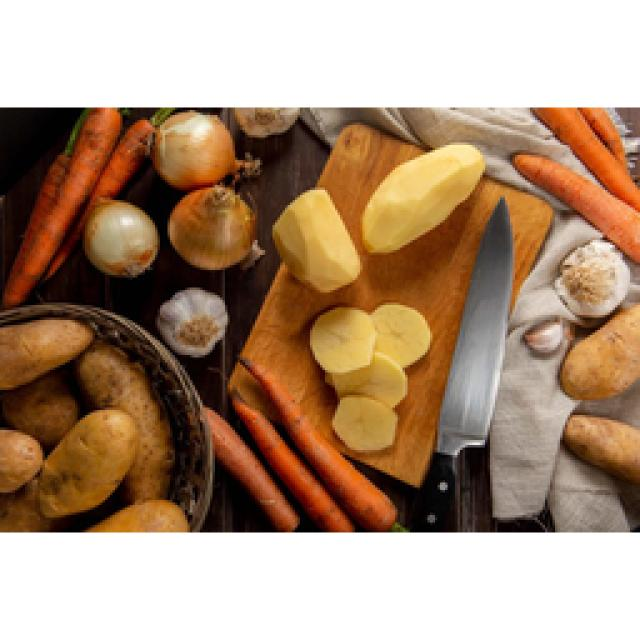food_waste: (0, 320, 188, 530), (512, 108, 638, 398), (310, 302, 428, 448), (152, 110, 258, 268), (360, 142, 482, 250), (212, 415, 295, 525), (272, 190, 358, 288), (85, 200, 158, 275), (562, 415, 638, 478), (158, 288, 225, 355)
